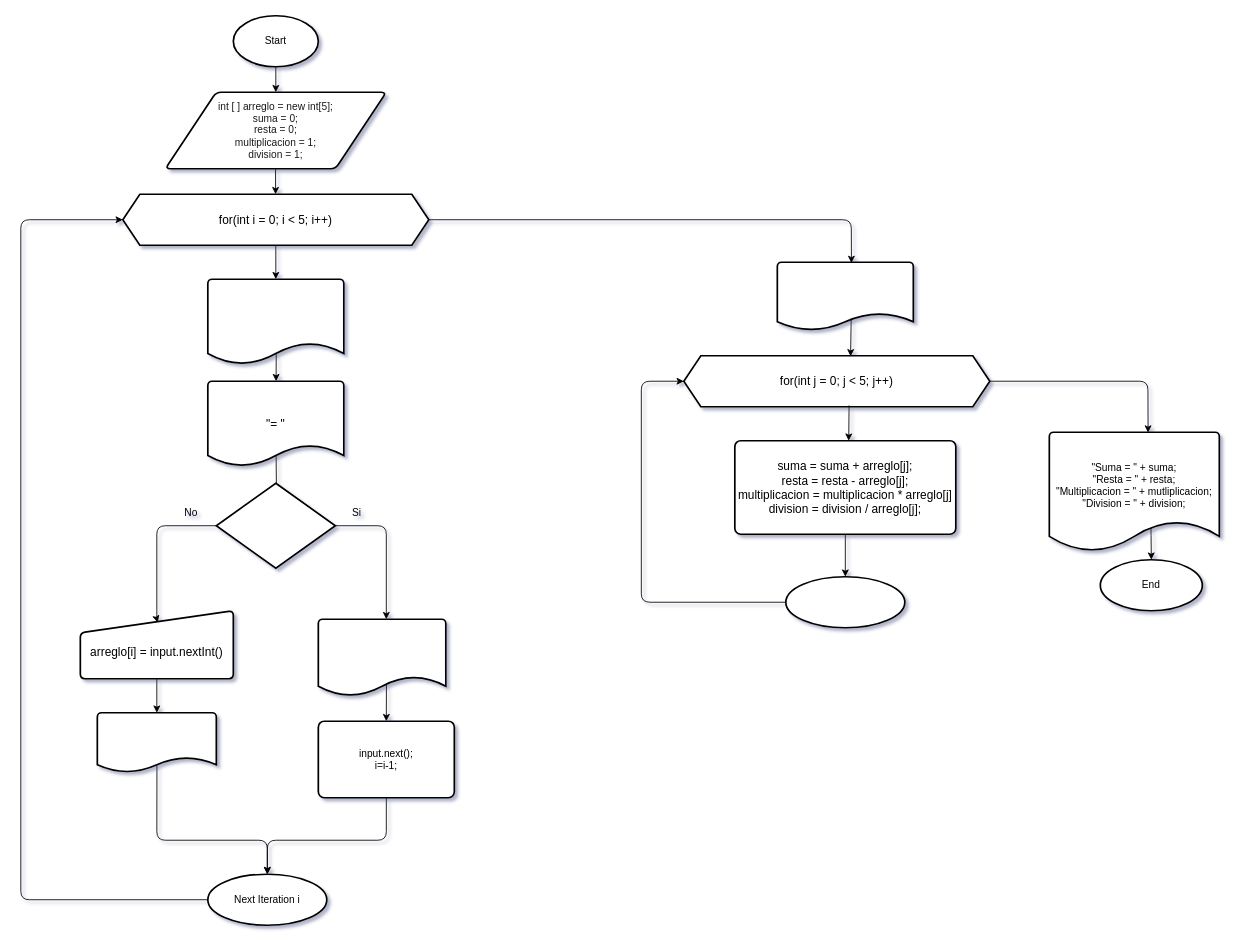
The diagram is 1240 pixels wide and 945 high, and some of its shapes have lost their labels. The shapes that lost their labels are listed below. From the top down, each one's centre as x and y in pixels, then its label:
point (845, 296): Operaciones Aritmeticas:
point (275, 321): "Arreglo["+i+"]
point (275, 525): !input.nextInt()
point (845, 601): Next Iteration j
point (381, 657): "Error: Debe Ingresar Un Numero Entero"
point (156, 742): "Elemento Ingresado: " + arreglo[i];
